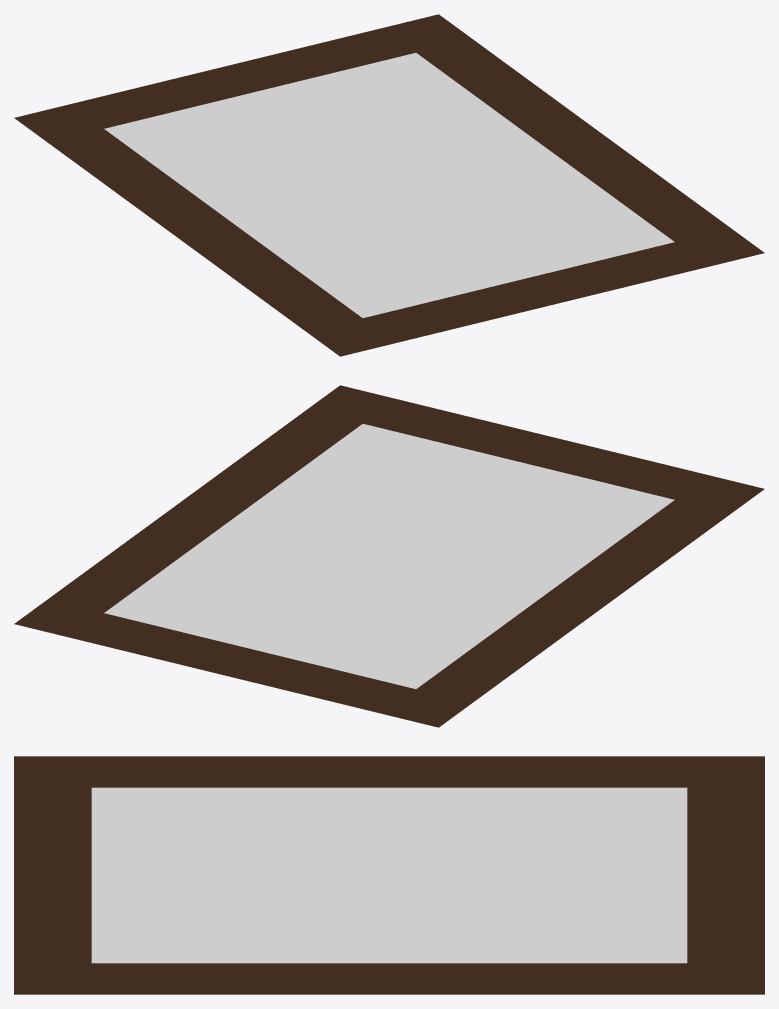
File: Mantel.fbx
3 renders of one model, top to bottom at view 1: azimuth 30°, elevation 25°; view 2: azimuth 150°, elevation 25°; view 3: azimuth 270°, elevation 25°, orthographic. The views are drawn at different scales.
Visible parts, largest first — view 1: Plane; view 2: Plane; view 3: Plane.
Part boxes in pixels (<box>): Plane: <box>14,14,764,356</box>; Plane: <box>14,385,764,727</box>; Plane: <box>14,756,764,994</box>.
Bounding box in the file's own units: 232 × 5.03e-05 × 309.
